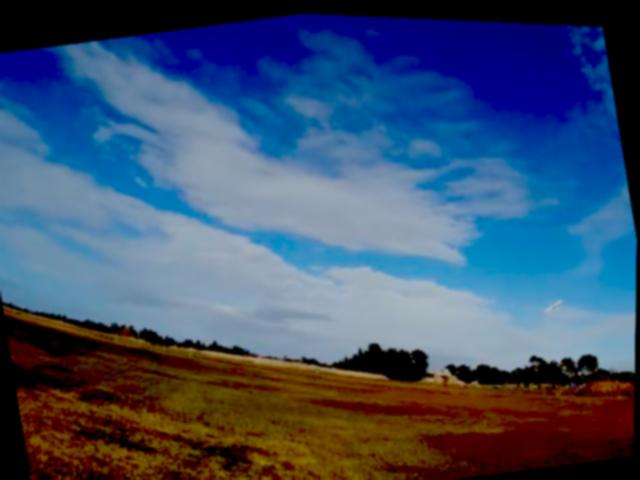uav: (538, 283, 569, 312)
